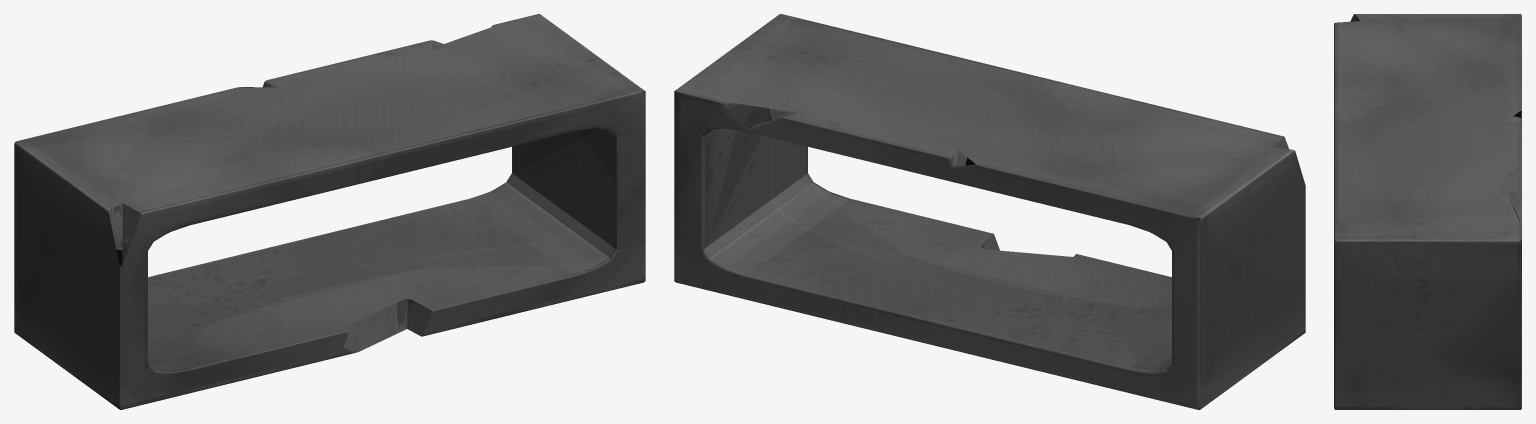
The model's file is Brick-1.fbx.
3 renders of one model, left to right at view 1: azimuth 30°, elevation 25°; view 2: azimuth 150°, elevation 25°; view 3: azimuth 270°, elevation 25°, orthographic. The views are drawn at different scales.
Visible parts, largest first — view 1: Brick-1; view 2: Brick-1; view 3: Brick-1.
Boxes of the visible parts, x1=… form: Brick-1: x1=14, y1=14, x2=645, y2=409; Brick-1: x1=674, y1=14, x2=1305, y2=409; Brick-1: x1=1334, y1=14, x2=1521, y2=409.
Size of the model in its own units: 19028 by 6635 by 6635.
